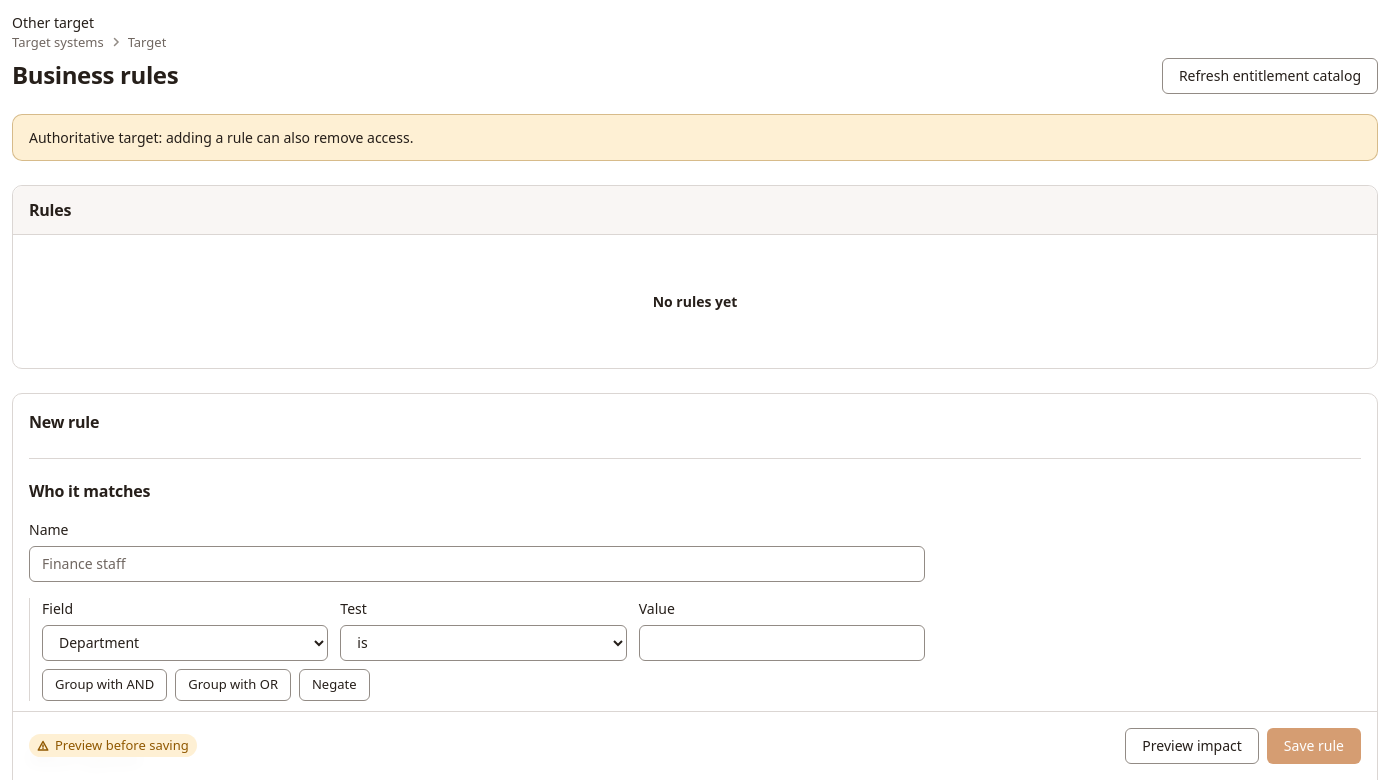
Test: BusinessRulesPage › requires impact review for a new rule on an authoritative target
The width and height of the screenshot is (1390, 780).
expect the text "Authoritative target: adding a rule can also remove access." is shown: met, box [29,128,413,147]
expect the button "Save rule" is disabled: met, box [1267,728,1361,764]
Click the button "Preview impact": (1192, 746) [1125,728,1259,764]
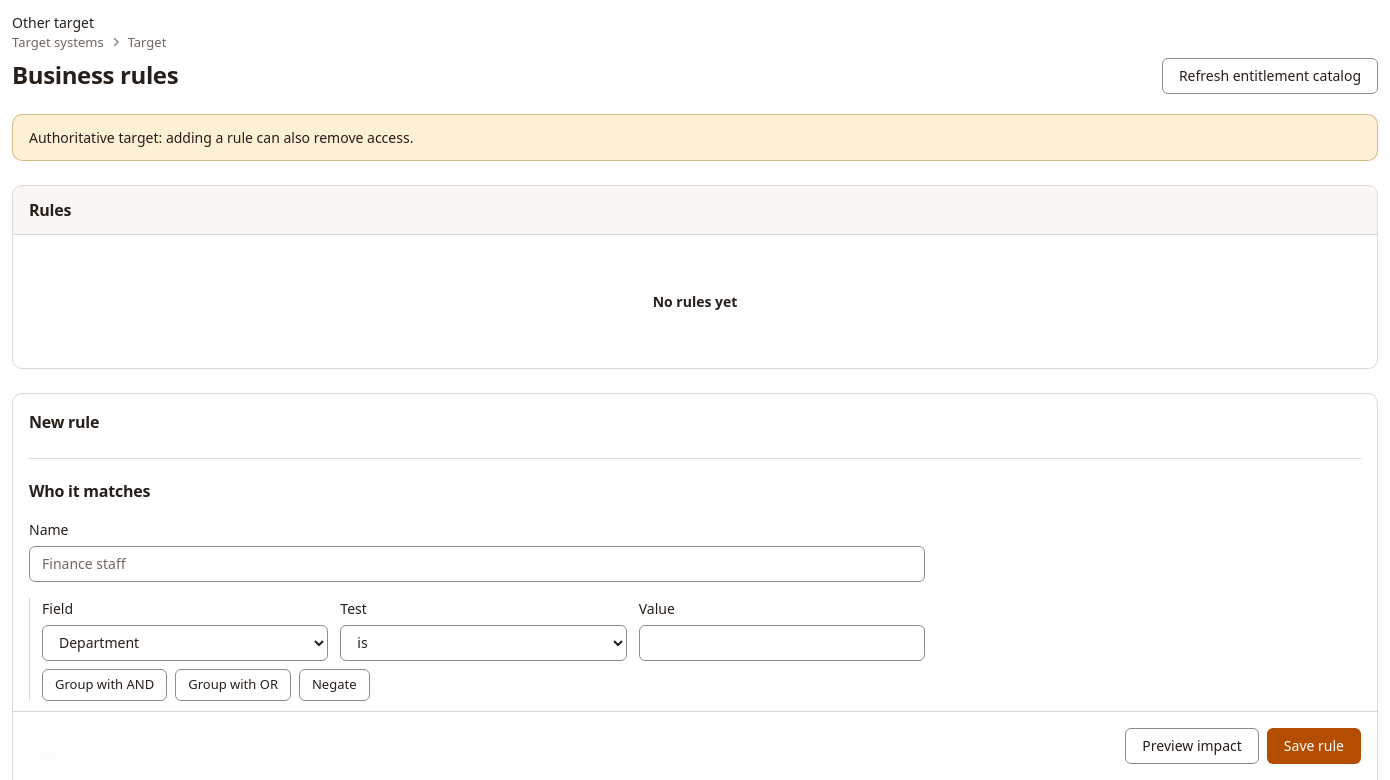
expect the button "Save rule" is enabled: met, box [1267,728,1361,764]
